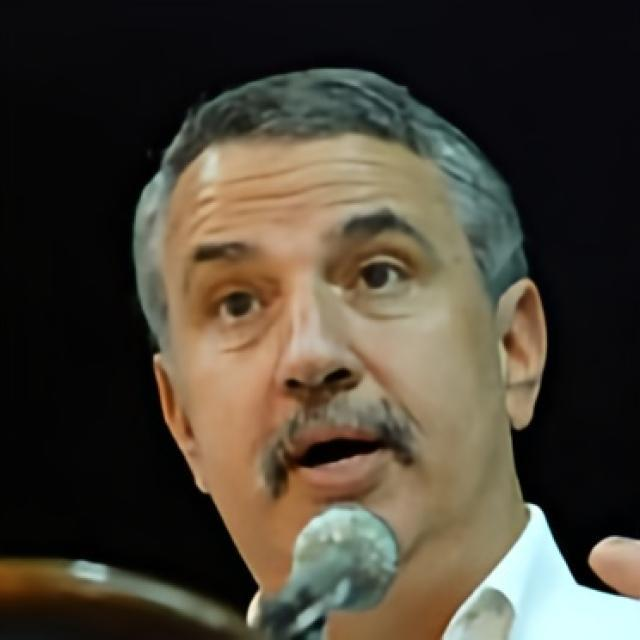surprise: (165, 127, 500, 573)
